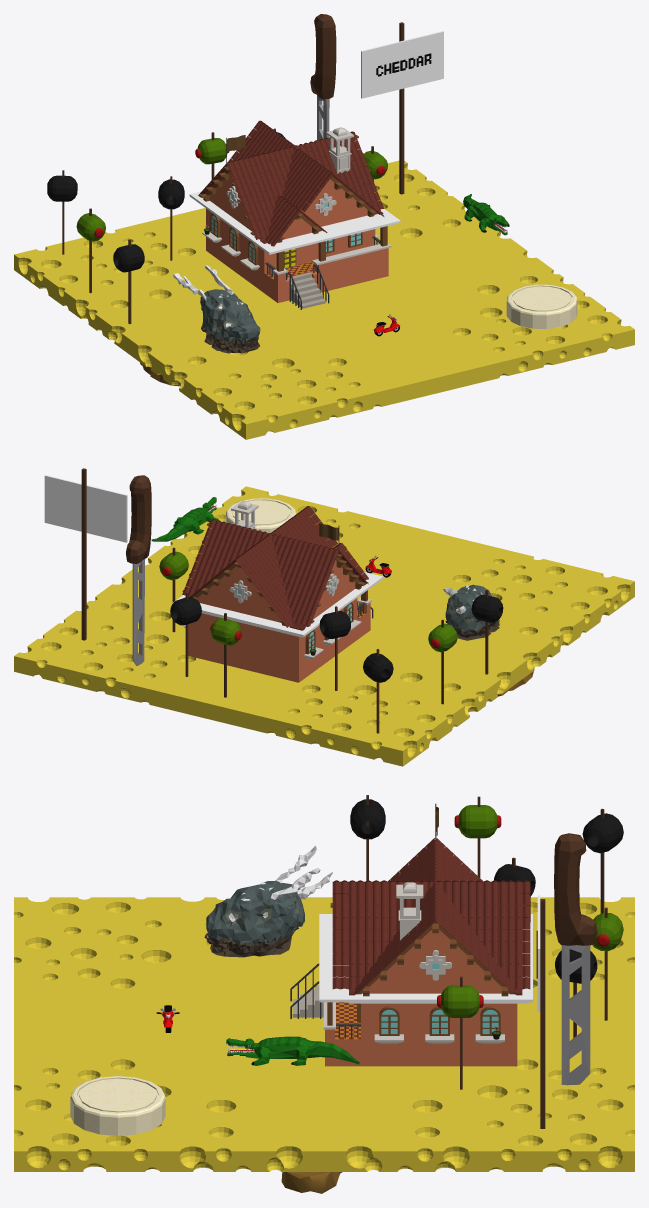
3 renders of one model, top to bottom at view 1: azimuth 30°, elevation 25°; view 2: azimuth 150°, elevation 25°; view 3: azimuth 270°, elevation 25°, orthographic. The views are drawn at different scales.
Parts seen in each view (by area): view 1: Cube.022, Cube.1141, Cube.023, OBJRANDOM_METEORITE, Cylinder.016, Cube.024, Sphere.017, ANIMAL_COCODRILO, Sphere.016, Sphere.020, Sphere.018, Sphere.022; view 2: Cube.022, Cube.1141, Cube.023, Cube.024, OBJRANDOM_METEORITE, Cylinder.016, ANIMAL_COCODRILO, Sphere.017, Sphere.021, Sphere.016, Sphere.020, Sphere.022 (+2 smaller); view 3: Cube.022, Cube.1141, Cube.024, OBJRANDOM_METEORITE, Cylinder.016, ANIMAL_COCODRILO, Cube.023, Sphere.016, Sphere.019, Sphere.018, Sphere.017, Sphere.022 (+3 smaller).
Boxes of the visible parts, x1,y1,x2,y2 form: Cube.022: [14, 160, 634, 439]; Cube.1141: [189, 120, 400, 309]; Cube.023: [361, 22, 443, 194]; OBJRANDOM_METEORITE: [173, 265, 260, 353]; Cylinder.016: [506, 284, 577, 328]; Cube.024: [310, 14, 336, 140]; Sphere.017: [113, 239, 144, 324]; ANIMAL_COCODRILO: [463, 194, 509, 235]; Sphere.016: [47, 170, 77, 254]; Sphere.020: [158, 176, 184, 260]; Sphere.018: [76, 208, 105, 293]; Sphere.022: [195, 132, 229, 179]; Cube.022: [14, 486, 634, 766]; Cube.1141: [172, 501, 383, 682]; Cube.023: [44, 468, 127, 640]; Cube.024: [126, 475, 151, 665]; OBJRANDOM_METEORITE: [443, 584, 499, 640]; Cylinder.016: [226, 498, 296, 533]; ANIMAL_COCODRILO: [151, 497, 218, 541]; Sphere.017: [471, 590, 503, 674]; Sphere.021: [170, 592, 201, 676]; Sphere.016: [363, 649, 393, 733]; Sphere.020: [319, 606, 350, 690]; Sphere.022: [210, 613, 241, 697]; Cube.022: [14, 897, 634, 1171]; Cube.1141: [290, 803, 532, 1066]; Cube.024: [554, 833, 597, 1085]; OBJRANDOM_METEORITE: [204, 845, 332, 957]; Cylinder.016: [70, 1076, 165, 1135]; ANIMAL_COCODRILO: [226, 1036, 359, 1065]; Cube.023: [536, 895, 545, 1128]; Sphere.016: [582, 808, 623, 913]; Sphere.019: [437, 976, 483, 1089]; Sphere.018: [454, 796, 501, 880]; Sphere.017: [350, 795, 385, 880]; Sphere.022: [592, 907, 623, 1020].
Bounding box in the file's own units: 3928 × 2120 × 4000.
43 materials, 3 textured.
